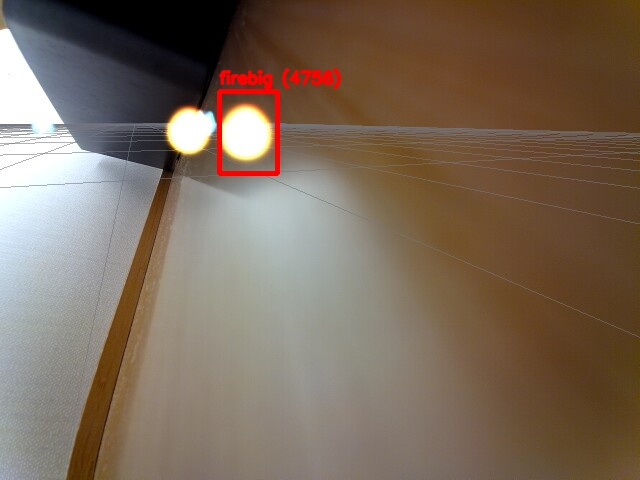firebig: (219, 91, 277, 173)
